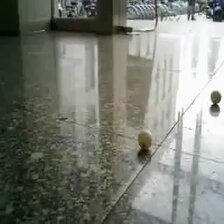w: (137, 130, 153, 149), (209, 90, 223, 105)
